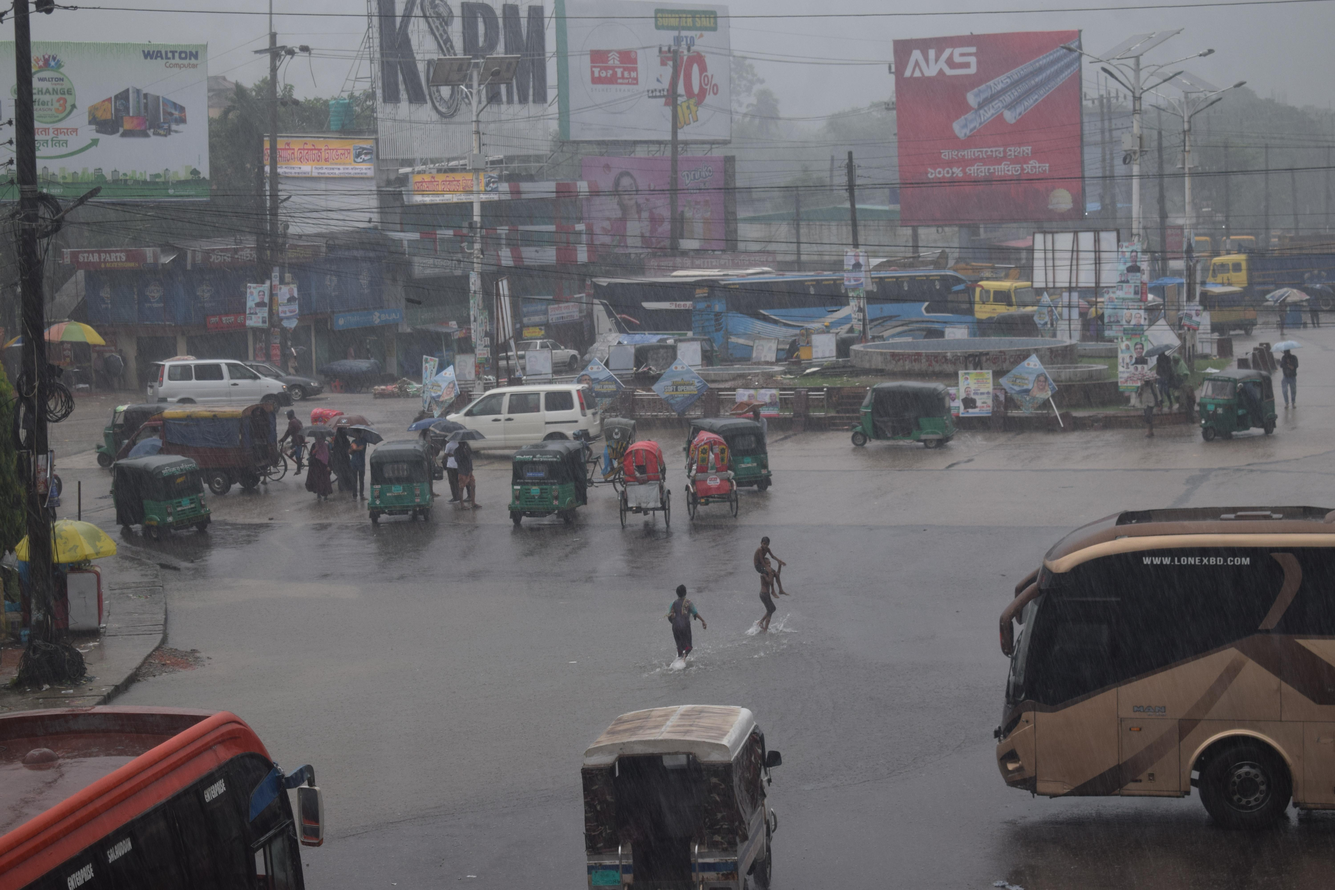Bus: (923, 467, 1335, 879), (0, 648, 415, 890), (679, 247, 1000, 398), (549, 229, 751, 424)
Car: (535, 670, 804, 890), (403, 355, 616, 474), (121, 381, 306, 503), (608, 410, 693, 558), (127, 331, 287, 399), (673, 420, 763, 535)
Truck: (1178, 228, 1335, 336), (955, 234, 1064, 342)
